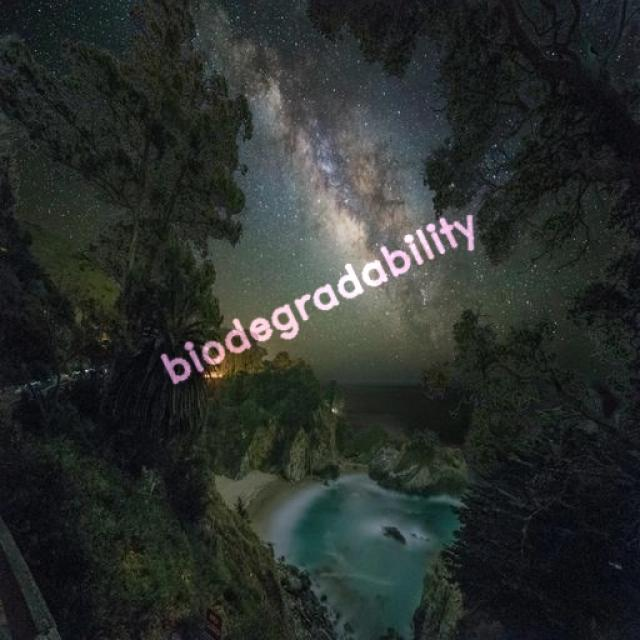watermark: (160, 200, 481, 392)
